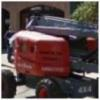tractors: (2, 13, 98, 98)
